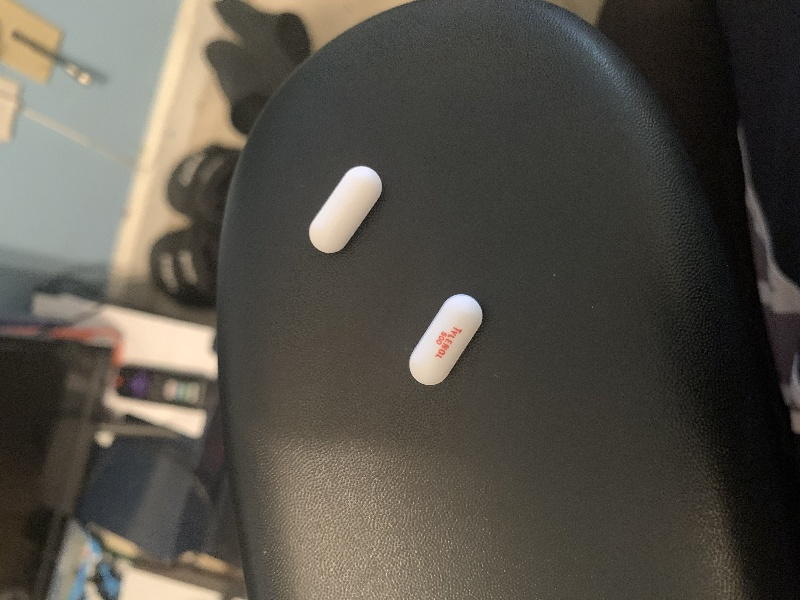Tylenol: (403, 282, 493, 398), (306, 161, 388, 259)
